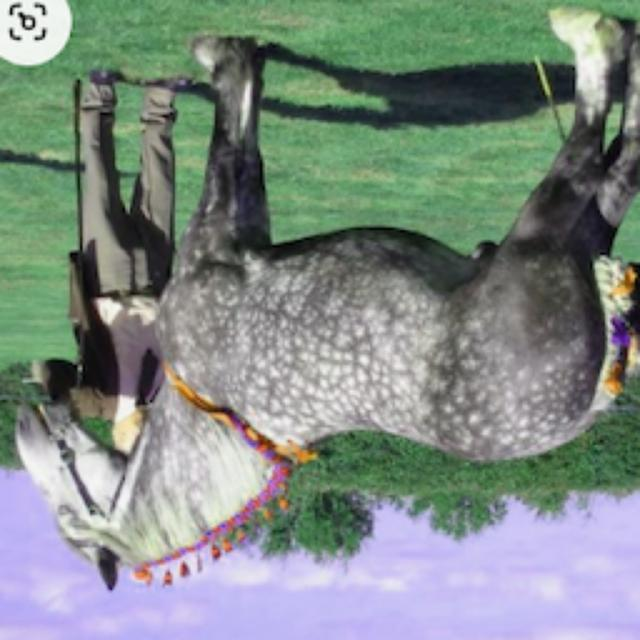Horse: (10, 5, 640, 598)
